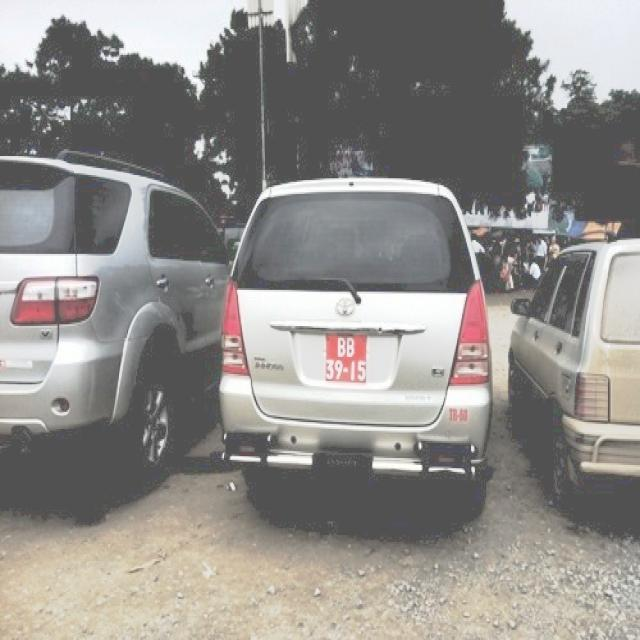license_plate: (326, 333, 367, 386)
